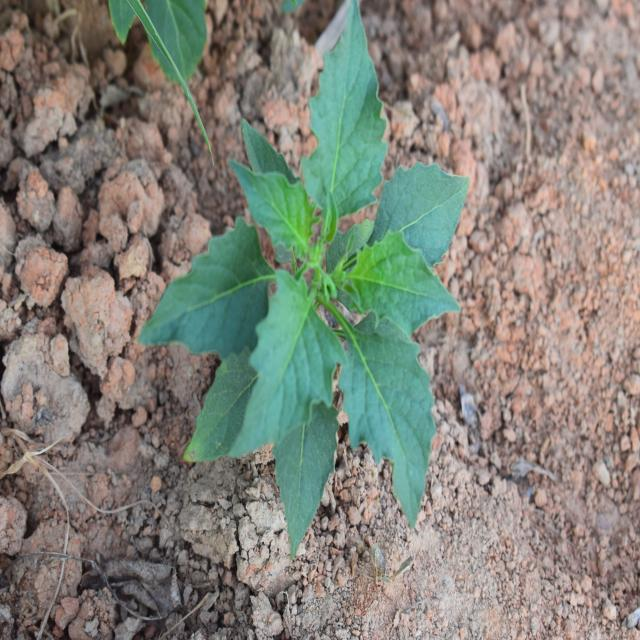Black_nightshade: (163, 52, 454, 524)
